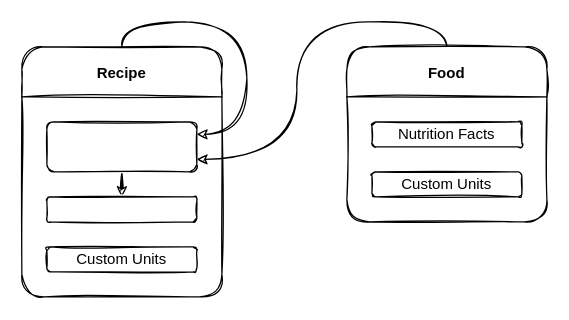
Image size: 569x320. Some labels were removed from this diagram. The centre of each missing label's shape, as x and y in pixels:
"Direction" goes at [121,209].
"Ingredient" goes at [121,146].
